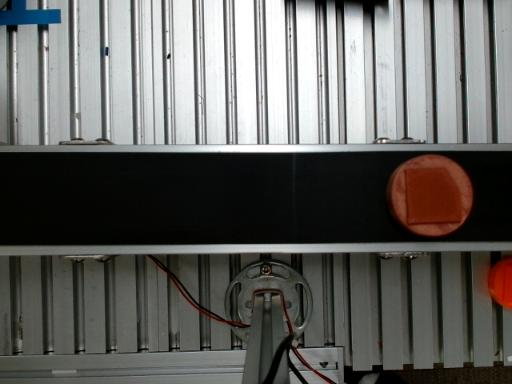Brown_Waper: (387, 154, 473, 237)
Not_Square: (405, 167, 462, 224)
